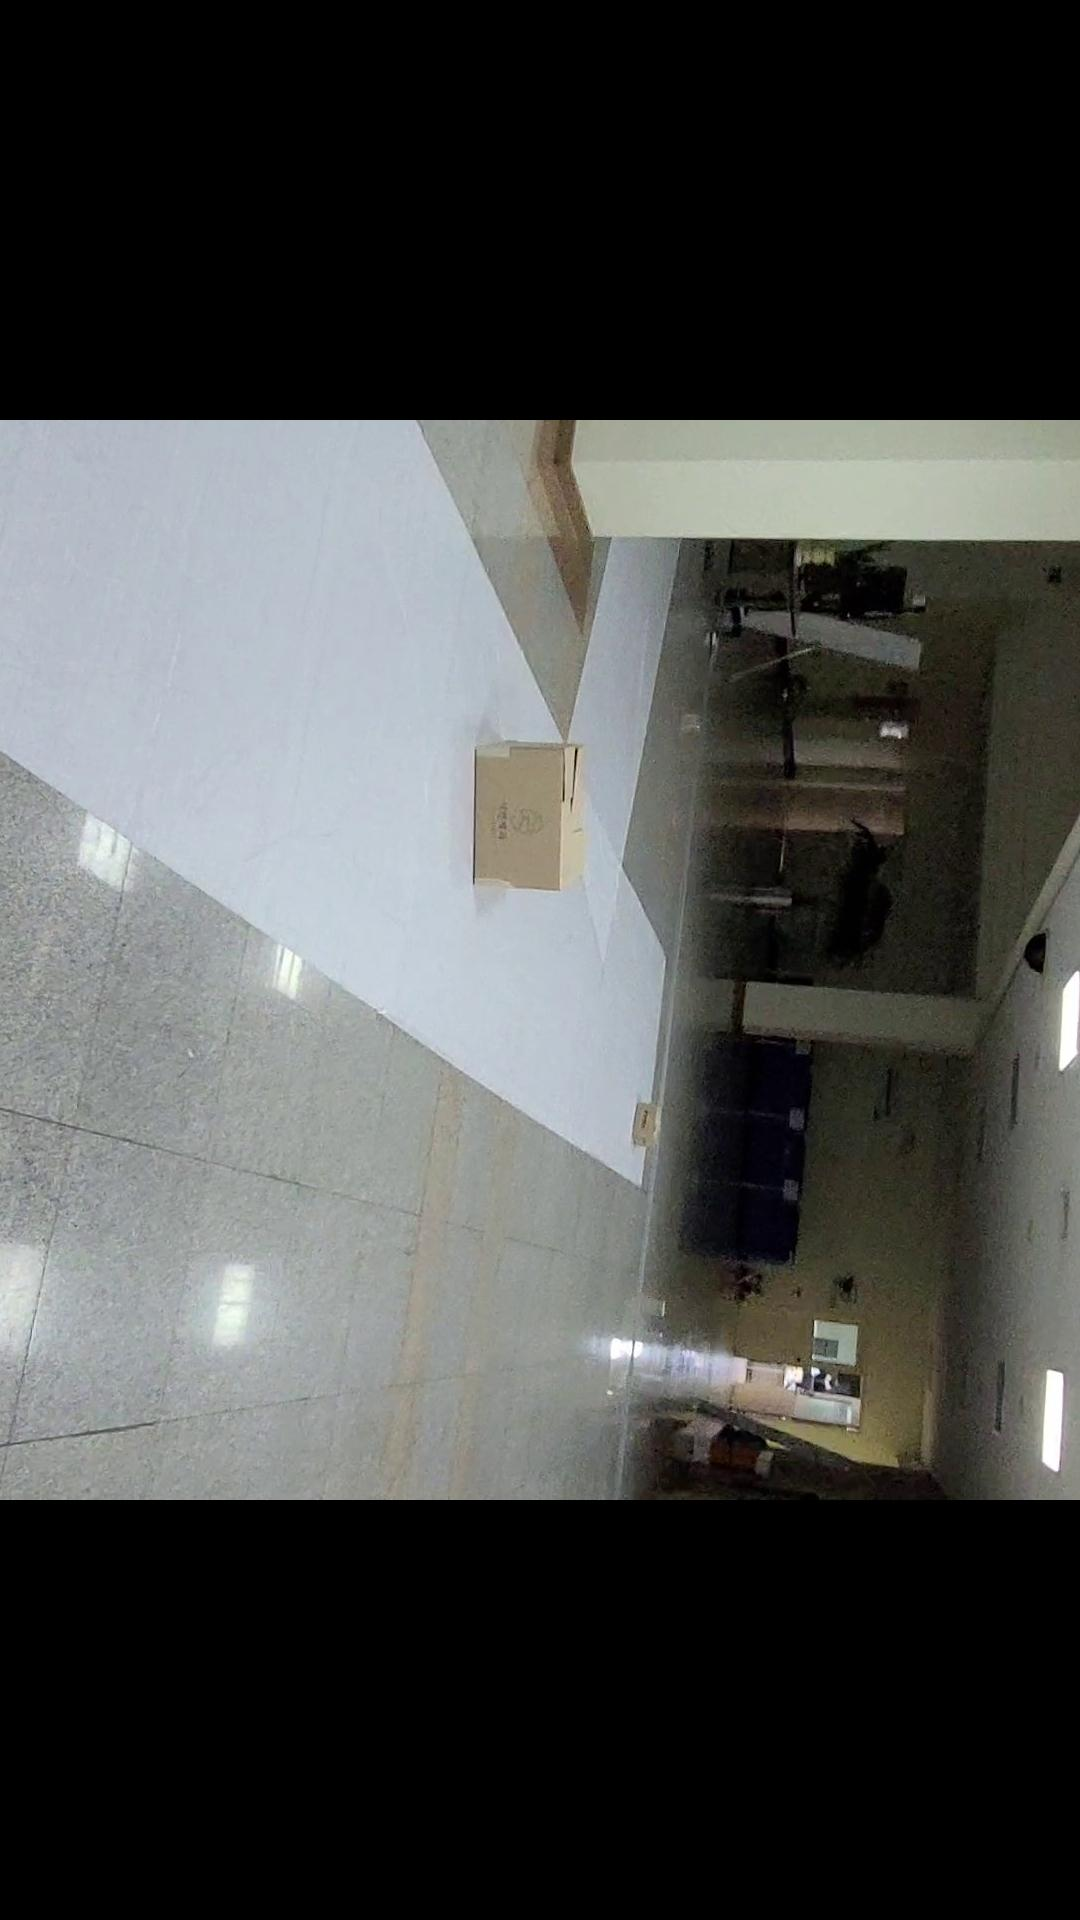Box: (447, 736, 597, 910), (608, 1088, 690, 1167)
